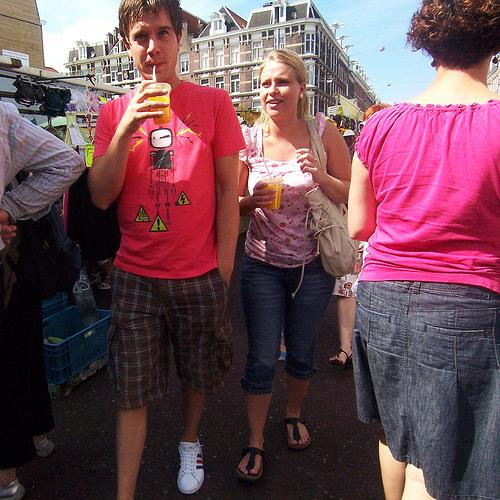person: (81, 3, 245, 498)
